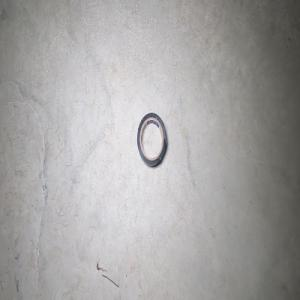Tape: (137, 112, 167, 166)
